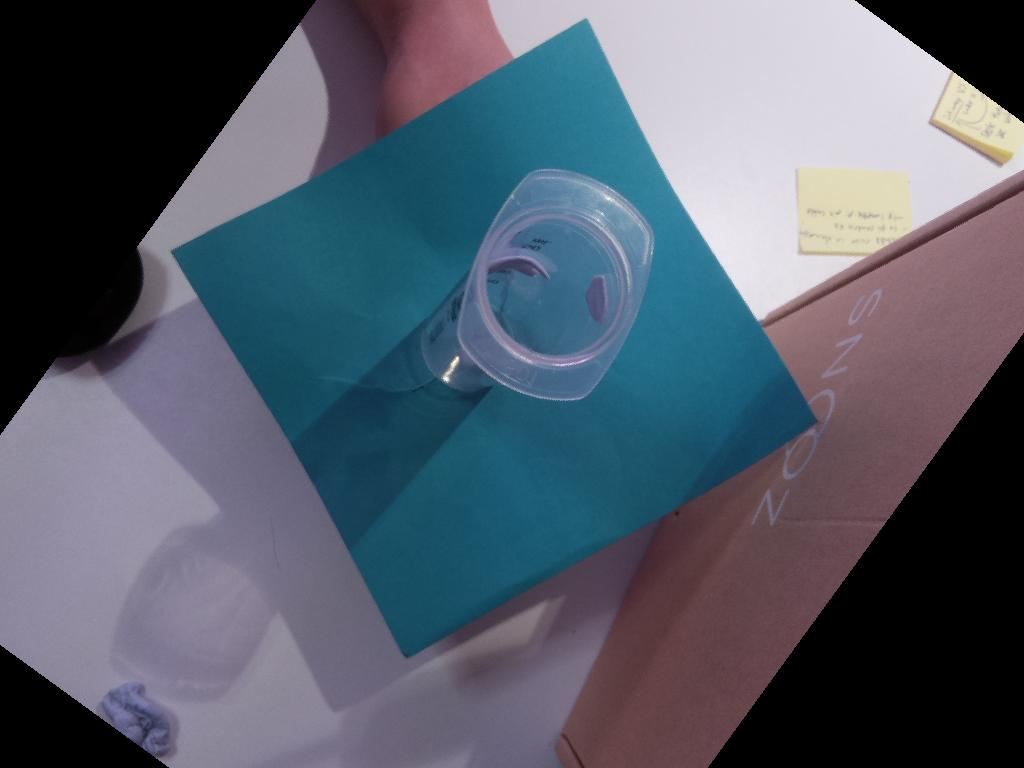dirty: (457, 171, 652, 401)
